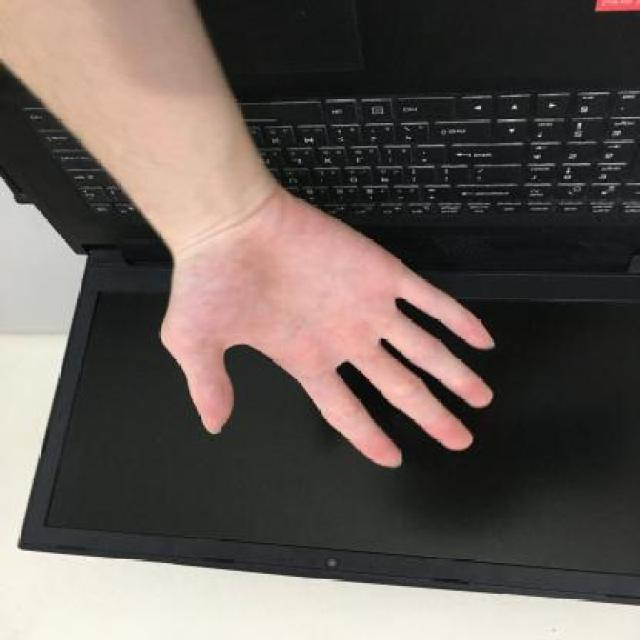bare_hand: (147, 180, 510, 480)
